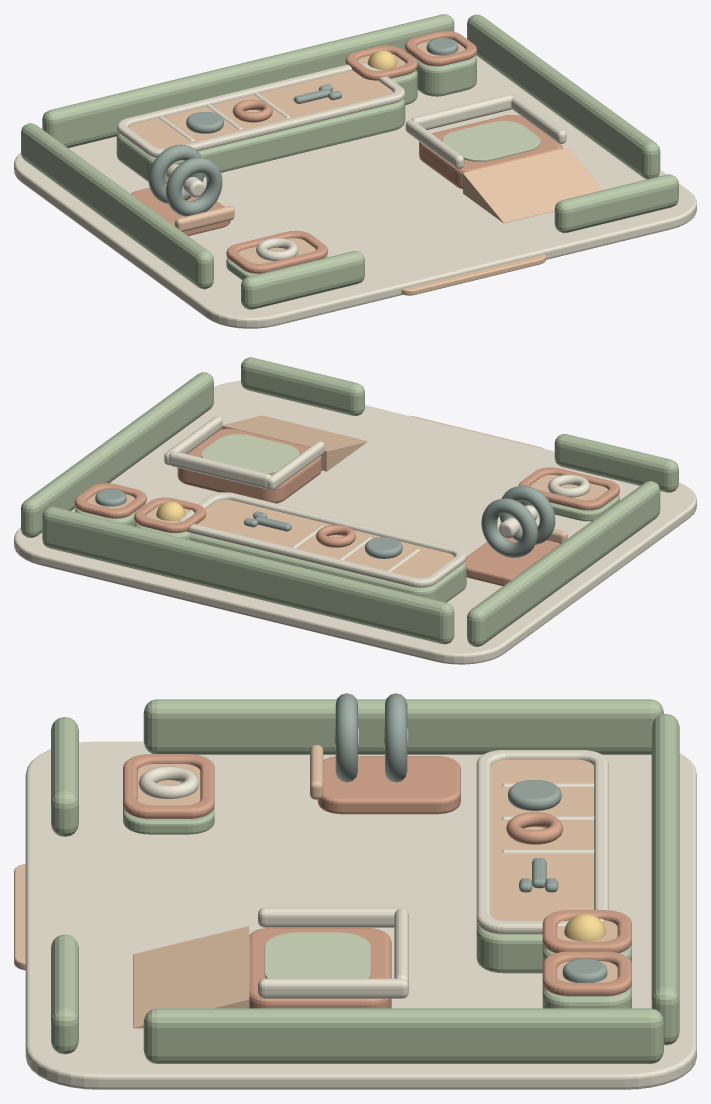
Rendered from repair_workshop.glb.
3 renders of one model, top to bottom at view 1: azimuth 30°, elevation 25°; view 2: azimuth 150°, elevation 25°; view 3: azimuth 270°, elevation 25°, orthographic. The views are drawn at different scales.
Parts seen in each view (by area): view 1: Repair_Foundation, Rear_LowWall, Left_LowWall, Right_LowWall, Main_LowWorkbench_LowBase, Gentle_EntryRamp, Main_LowWorkbench_RecessedFloor, Main_LowWorkbench_RoundedLip, Front_Right_Wall, Front_Left_Wall, Dock_InspectionPad, RepairDock_Landing (+17 smaller); view 2: Repair_Foundation, Rear_LowWall, Left_LowWall, Right_LowWall, Main_LowWorkbench_RecessedFloor, Main_LowWorkbench_RoundedLip, Front_Right_Wall, Front_Left_Wall, RepairDock_Landing, Main_LowWorkbench_LowBase, Gentle_EntryRamp, Dock_InspectionPad (+15 smaller); view 3: Repair_Foundation, Right_LowWall, Left_LowWall, Main_LowWorkbench_RecessedFloor, Rear_LowWall, Gentle_EntryRamp, WheelRack_Base, Main_LowWorkbench_RoundedLip, Dock_InspectionPad, RepairDock_Landing, Small_FloorPartsTray_RoundedLip, Front_Left_Wall (+19 smaller).
Boxes of the visible parts, left/top/right/bottom form: Repair_Foundation: left=14, top=55, right=696, bottom=328; Rear_LowWall: left=42, top=14, right=454, bottom=148; Left_LowWall: left=21, top=123, right=213, bottom=289; Right_LowWall: left=467, top=14, right=660, bottom=179; Main_LowWorkbench_LowBase: left=116, top=98, right=405, bottom=183; Gentle_EntryRamp: left=463, top=147, right=602, bottom=223; Main_LowWorkbench_RecessedFloor: left=128, top=71, right=393, bottom=148; Main_LowWorkbench_RoundedLip: left=116, top=63, right=405, bottom=157; Front_Right_Wall: left=554, top=174, right=678, bottom=233; Front_Left_Wall: left=241, top=251, right=364, bottom=309; Dock_InspectionPad: left=442, top=121, right=540, bottom=161; RepairDock_Landing: left=419, top=114, right=562, bottom=189; Repair_Foundation: left=14, top=381, right=696, bottom=664; Rear_LowWall: left=42, top=507, right=454, bottom=644; Left_LowWall: left=467, top=481, right=660, bottom=646; Right_LowWall: left=21, top=372, right=213, bottom=537; Main_LowWorkbench_RecessedFloor: left=197, top=499, right=454, bottom=577; Main_LowWorkbench_RoundedLip: left=179, top=492, right=466, bottom=587; Front_Right_Wall: left=241, top=357, right=364, bottom=415; Front_Left_Wall: left=554, top=434, right=678, bottom=492; RepairDock_Landing: left=177, top=428, right=321, bottom=503; Main_LowWorkbench_LowBase: left=189, top=533, right=466, bottom=602; Gentle_EntryRamp: left=221, top=415, right=367, bottom=471; Dock_InspectionPad: left=201, top=434, right=299, bottom=474; Repair_Foundation: left=25, top=741, right=696, bottom=1089; Right_LowWall: left=143, top=1008, right=663, bottom=1063; Left_LowWall: left=143, top=699, right=663, bottom=754; Main_LowWorkbench_RecessedFloor: left=491, top=759, right=593, bottom=920; Rear_LowWall: left=651, top=714, right=679, bottom=1045; Gentle_EntryRamp: left=133, top=926, right=249, bottom=1028; WheelRack_Base: left=317, top=756, right=460, bottom=814; Main_LowWorkbench_RoundedLip: left=476, top=750, right=608, bottom=934; Dock_InspectionPad: left=264, top=932, right=370, bottom=978; RepairDock_Landing: left=249, top=928, right=391, bottom=1008; Small_FloorPartsTray_RoundedLip: left=123, top=754, right=214, bottom=818; Front_Left_Wall: left=51, top=717, right=78, bottom=836.
Size of the model in its own units: 7.1 by 1.09 by 6.11.
